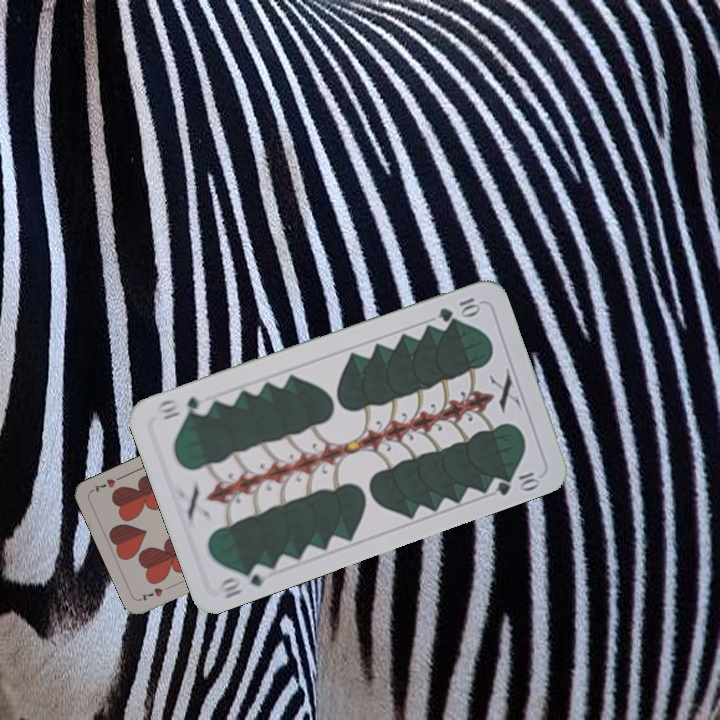G10: (214, 560, 270, 602), (434, 293, 483, 325)
H7: (137, 581, 175, 603)
